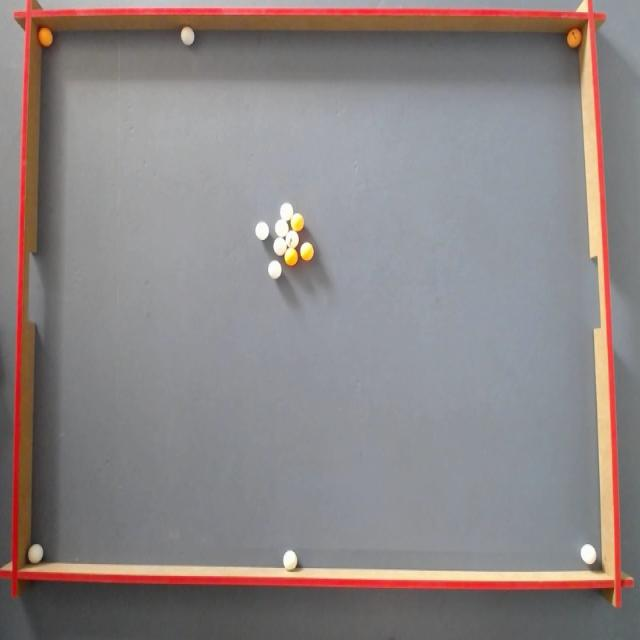orange_ball: (38, 26, 53, 46), (567, 28, 581, 47), (284, 247, 298, 266), (300, 242, 314, 260), (291, 213, 304, 231)
white_ball: (28, 544, 44, 564), (581, 544, 596, 564), (283, 550, 297, 571), (255, 222, 269, 240), (280, 202, 293, 221), (181, 27, 194, 45), (268, 260, 281, 278), (274, 237, 286, 256), (286, 230, 298, 248), (276, 219, 288, 237)
